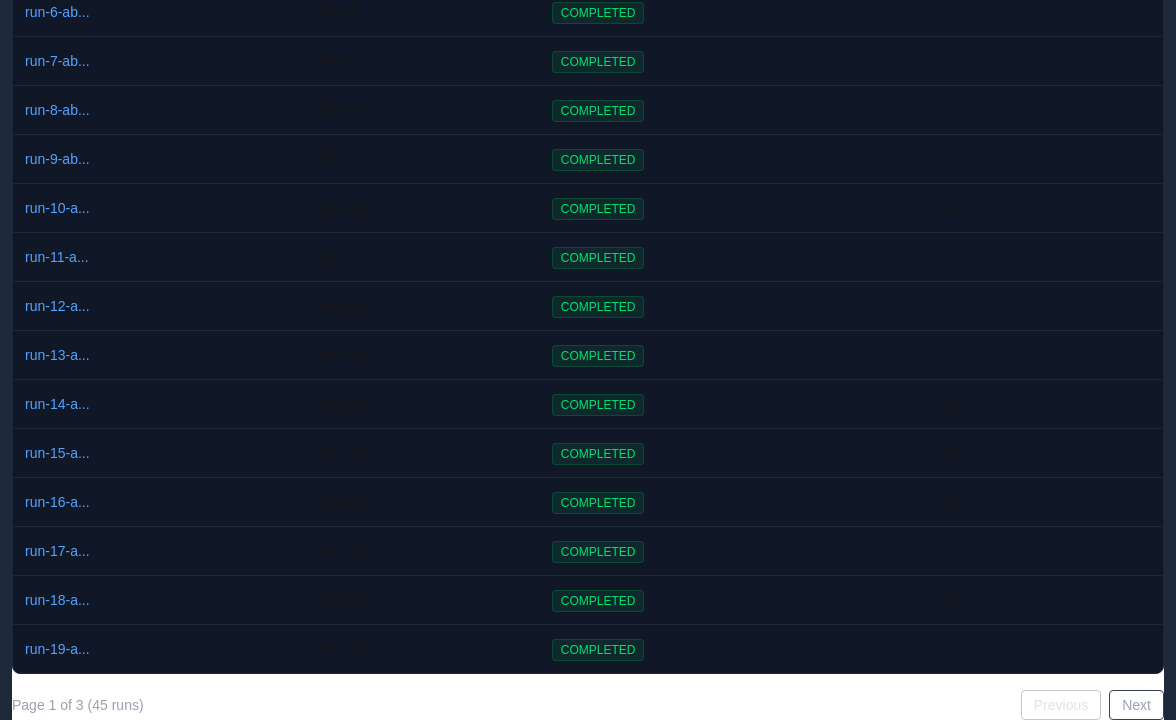
Test: RunsPage › Next button click increments page
The image size is (1176, 720).
(page scrolled)
expect the text "Page 1 of 3 (45 runs)" is shown: met, box [12,695,144,715]
Click the button "Next". click: [1137, 705]
box: [1109,690,1164,719]
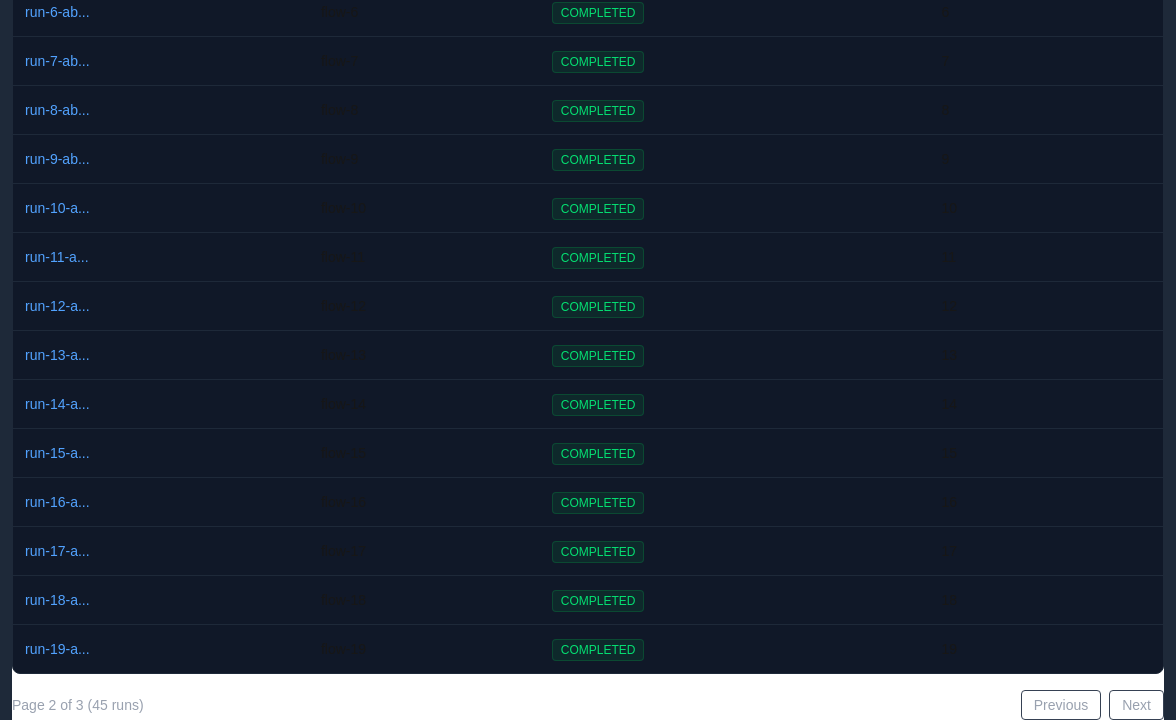
expect the text "Page 2 of 3 (45 runs)" is shown: met, box [12,695,144,715]
